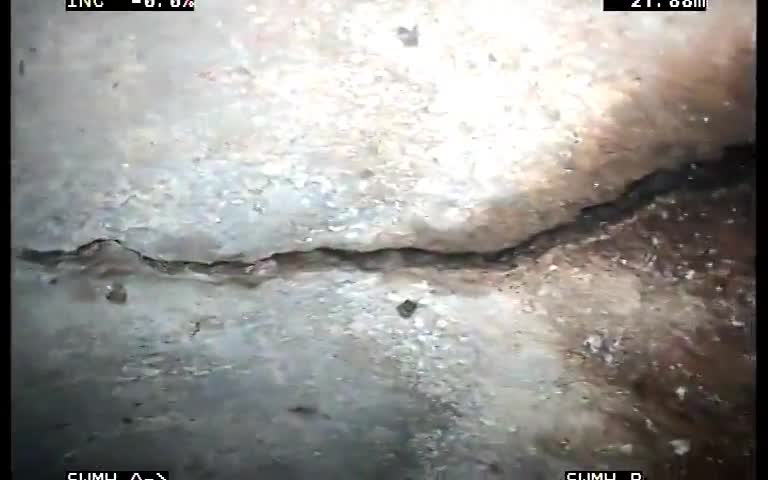Crack: (16, 108, 748, 341), (402, 128, 747, 299), (14, 205, 400, 294)
